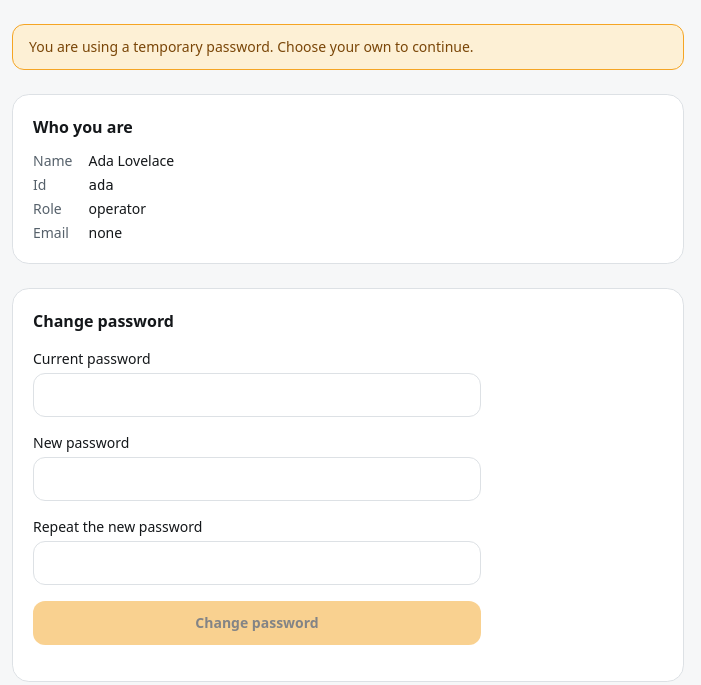
My account › makes no sessions request and shows no alert while a change is required, then fetches after the change
The image size is (701, 685).
Check: the button "Close my other sessions" is not shown
Check: the text "Ada Lovelace" is shown, box left=88, top=151, right=174, bottom=170
Type "old" into the password field labelled "Current password".
click(257, 395); type("old")  # box left=33, top=373, right=481, bottom=417
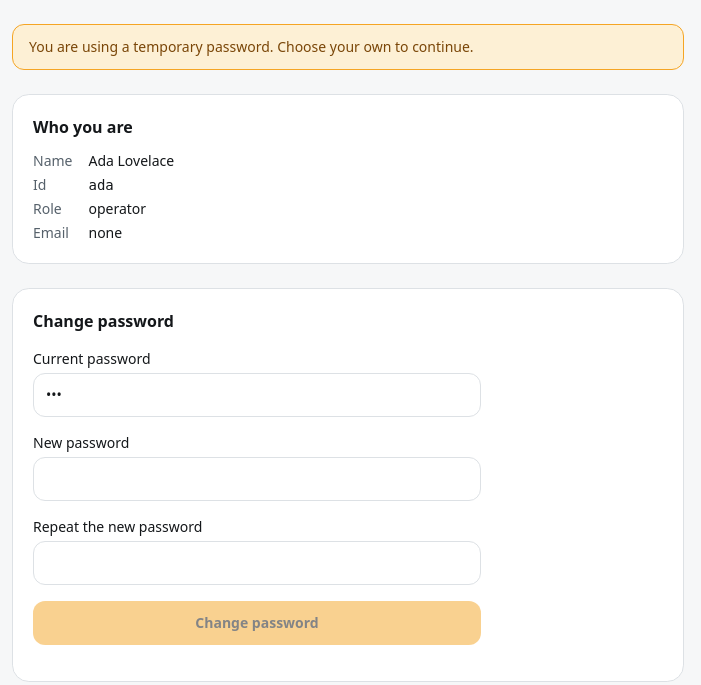
Type "new-secret" into the password field labelled "New password".
click(257, 479); type("new-secret")  # box left=33, top=457, right=481, bottom=501
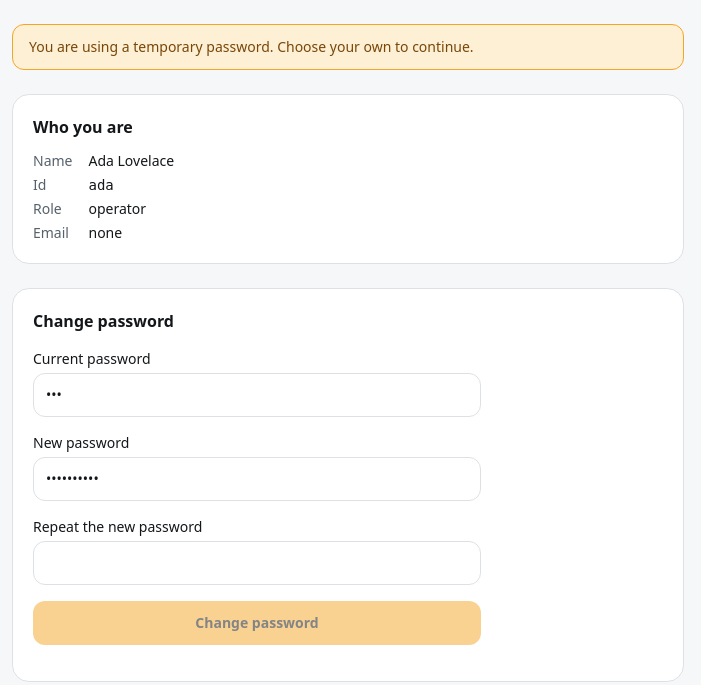
Type "new-secret" into the password field labelled "Repeat the new password".
click(257, 563); type("new-secret")  # box left=33, top=541, right=481, bottom=585
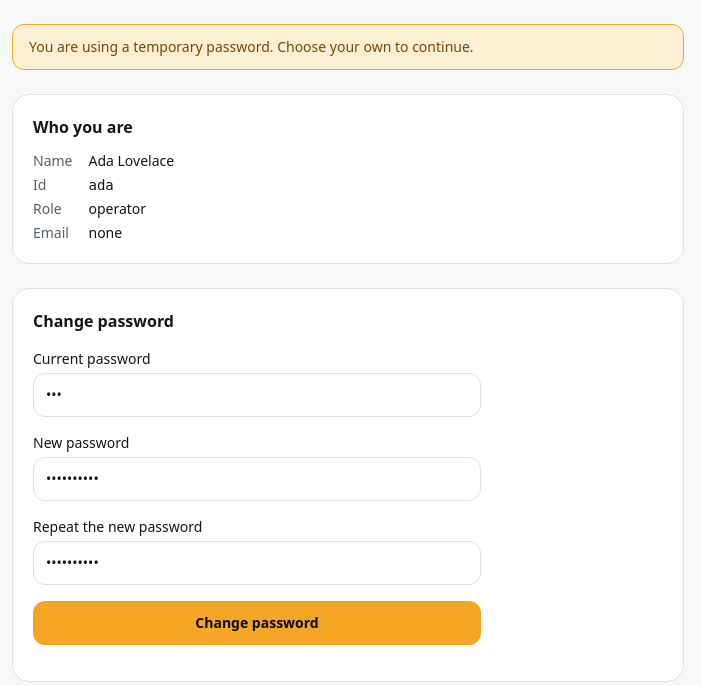
Click the button "Change password".
click(257, 623)  # box left=33, top=601, right=481, bottom=645
(page scrolled)
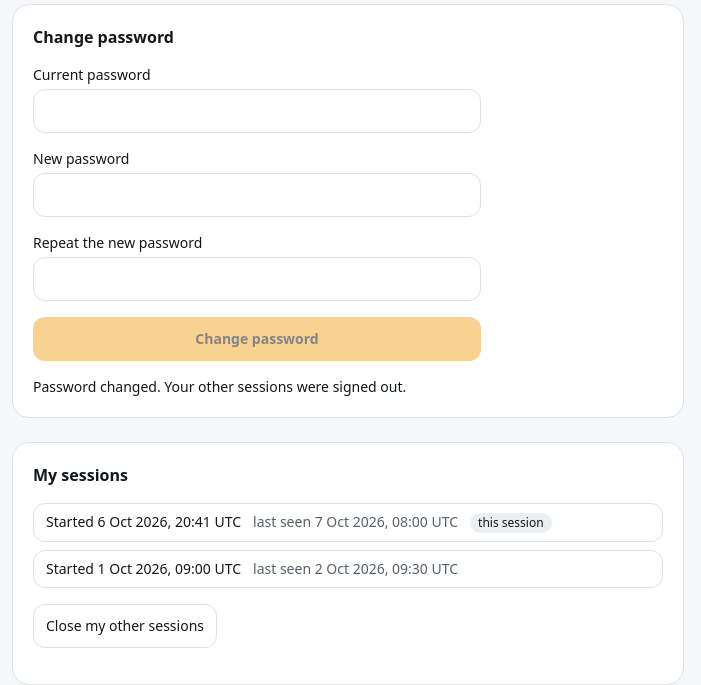
Check: the text "this session" is shown, box left=470, top=513, right=552, bottom=533
